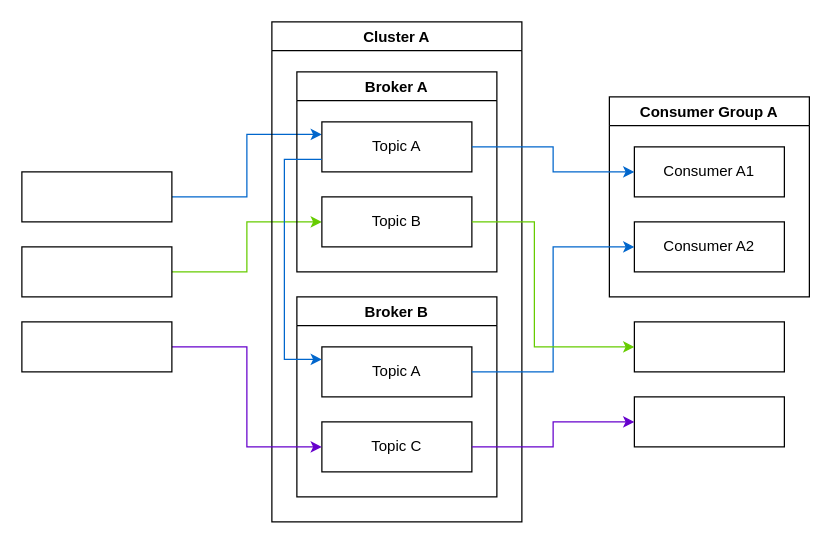
The diagram is 831 pixels wide and 544 high, and some of its shapes have lost their labels. Each missing label, with the centre of its shape:
"Consumer B" belongs at (708,346).
"Consumer C" belongs at (708,421).
"Producer A" belongs at (96,196).
"Producer B" belongs at (96,271).
"Producer C" belongs at (96,346).
